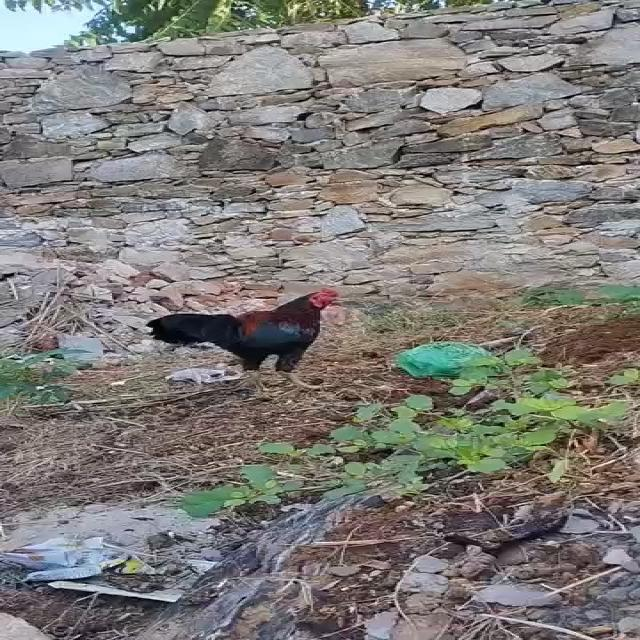walking: (128, 260, 359, 410)
